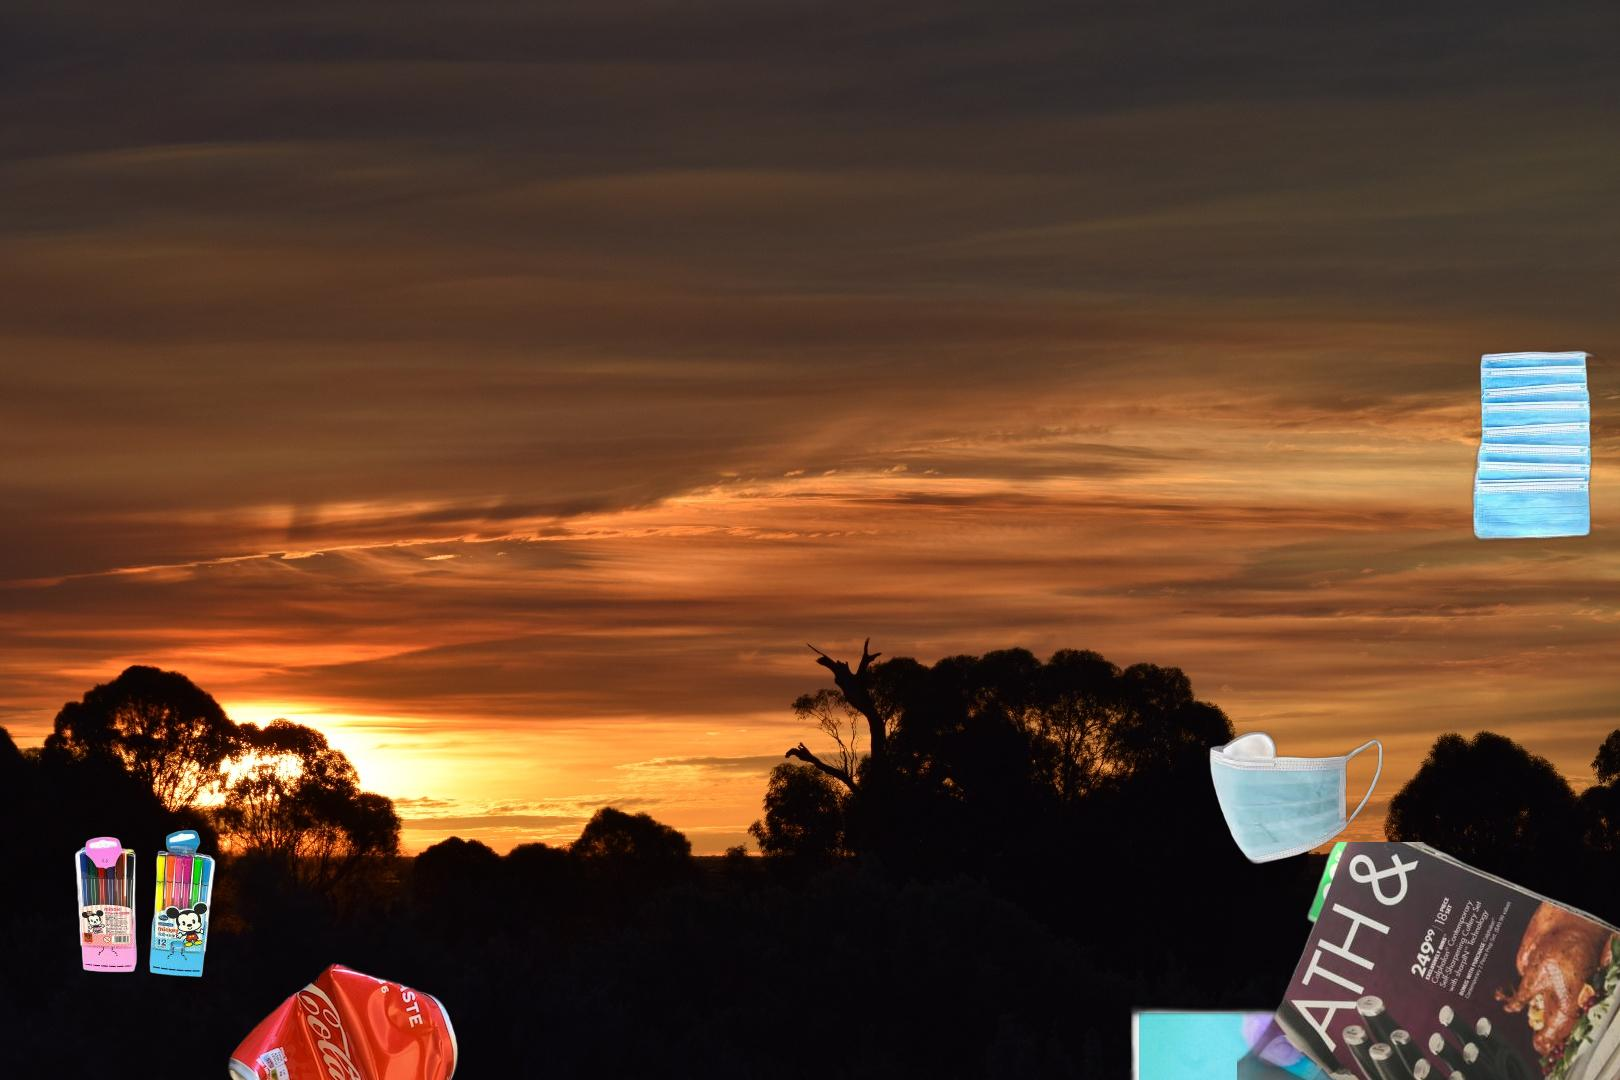metal-cans: (152, 958, 463, 1080)
paper: (1237, 843, 1620, 1080)
penholder: (72, 827, 218, 980)
trash: (1468, 348, 1620, 548), (1207, 729, 1386, 865)
trashbox-cardboard: (993, 717, 1620, 1080)
